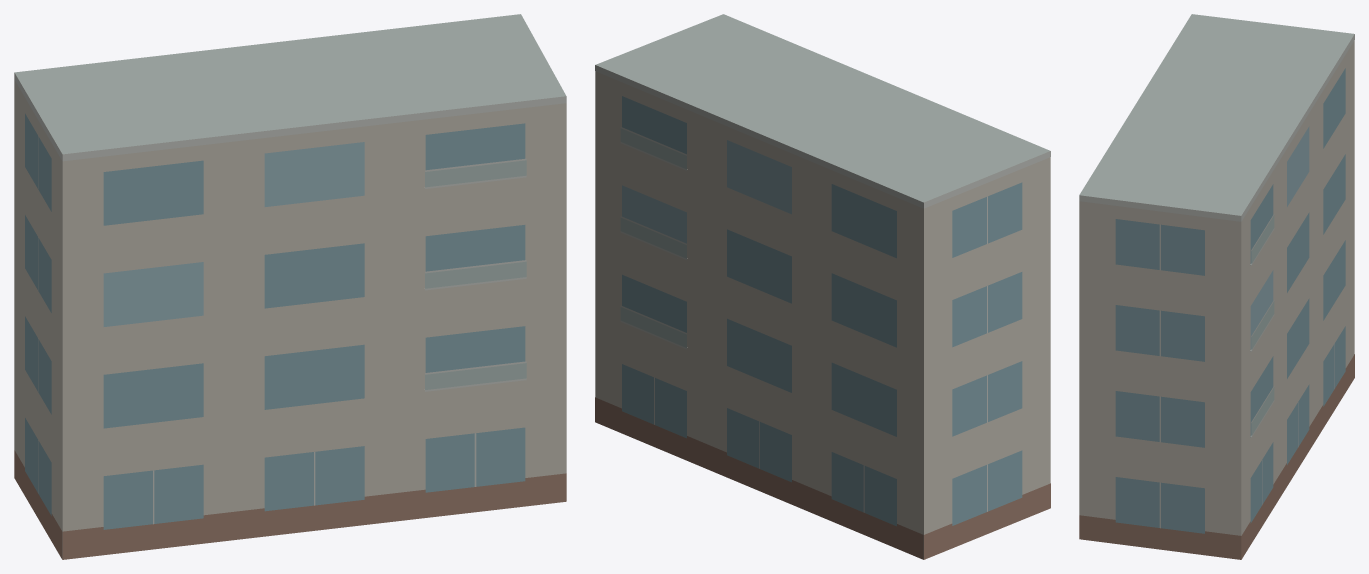
File: survey-upis-32984817.glb
3 views of the same model, side by side, from view 1: azimuth 30°, elevation 25°; view 2: azimuth 150°, elevation 25°; view 3: azimuth 270°, elevation 25° (orthographic). The views are drawn at different scales.
Parts seen in each view (by area): view 1: survey-upis-32984817.tmp; view 2: survey-upis-32984817.tmp; view 3: survey-upis-32984817.tmp.
Part boxes in pixels (x1,y1,x2,y2): survey-upis-32984817.tmp: (14, 14, 566, 559); survey-upis-32984817.tmp: (595, 14, 1050, 559); survey-upis-32984817.tmp: (1079, 14, 1354, 559).
Bounding box in the file's own units: 17.89 × 14.2 × 10.32.
